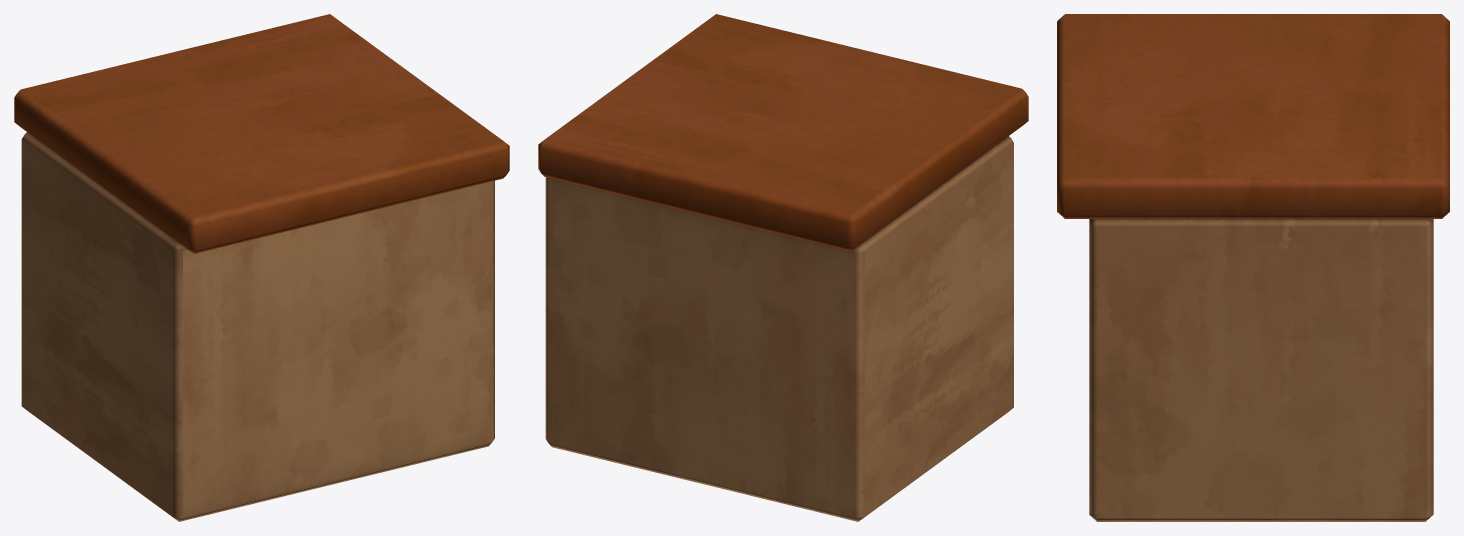
File: CounterSolid.fbx
3 views of the same model, side by side, from view 1: azimuth 30°, elevation 25°; view 2: azimuth 150°, elevation 25°; view 3: azimuth 270°, elevation 25° (orthographic). The views are drawn at different scales.
Parts seen in each view (by area): view 1: Counter.003; view 2: Counter.003; view 3: Counter.003.
Boxes of the visible parts, <box> form: Counter.003: <box>14,14,509,521</box>; Counter.003: <box>538,14,1028,521</box>; Counter.003: <box>1057,14,1449,521</box>.
Bounding box in the file's own units: 89.87 × 84.32 × 87.3.
